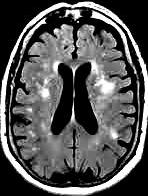Normal_Brain: (1, 3, 148, 196)
